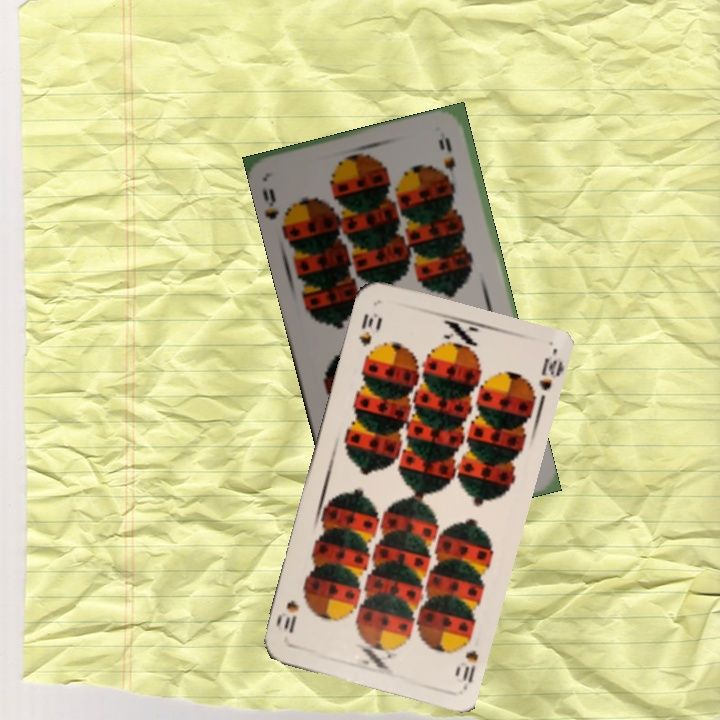S10: (355, 309, 382, 349), (458, 646, 481, 690)
S9: (258, 184, 282, 223)
